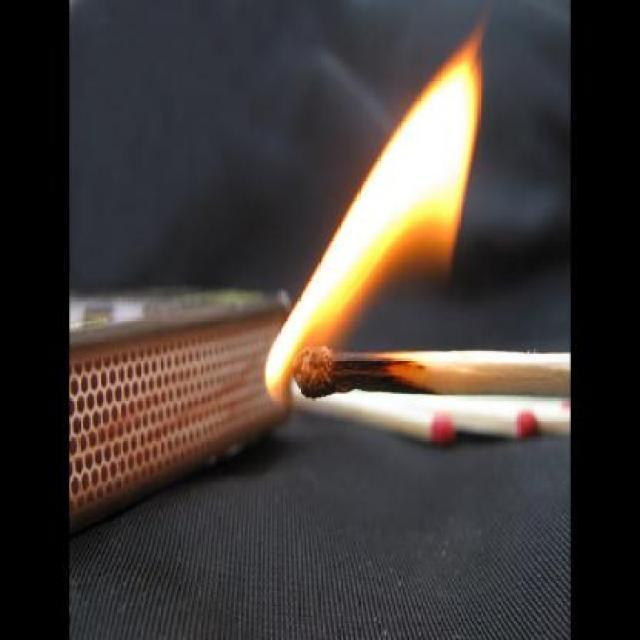Fire: (263, 49, 481, 407)
